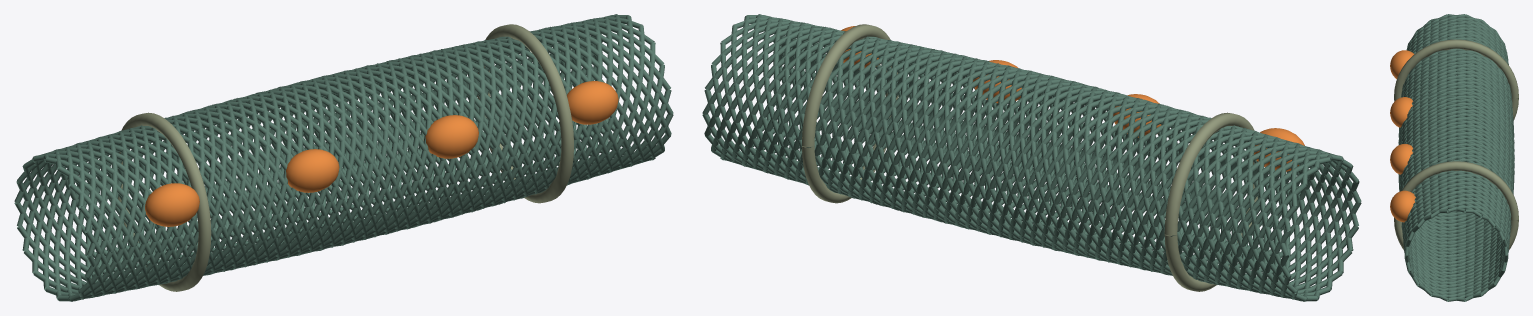
Rendered from trawl_net_bundle.glb.
3 renders of one model, left to right at view 1: azimuth 30°, elevation 25°; view 2: azimuth 150°, elevation 25°; view 3: azimuth 270°, elevation 25°, orthographic. The views are drawn at different scales.
Parts seen in each view (by area): view 1: trawl_net_bundle Fixed_NetTwine, trawl_net_bundle Fixed_FloatOrange, trawl_net_bundle Fixed_Boltrope; view 2: trawl_net_bundle Fixed_NetTwine, trawl_net_bundle Fixed_Boltrope, trawl_net_bundle Fixed_FloatOrange; view 3: trawl_net_bundle Fixed_NetTwine, trawl_net_bundle Fixed_Boltrope, trawl_net_bundle Fixed_FloatOrange.
Part boxes in pixels (x1,y1,x2,y2): trawl_net_bundle Fixed_NetTwine: [14, 14, 673, 301]; trawl_net_bundle Fixed_FloatOrange: [145, 81, 618, 226]; trawl_net_bundle Fixed_Boltrope: [118, 24, 573, 291]; trawl_net_bundle Fixed_NetTwine: [702, 14, 1361, 301]; trawl_net_bundle Fixed_Boltrope: [802, 24, 1257, 291]; trawl_net_bundle Fixed_FloatOrange: [841, 26, 1304, 171]; trawl_net_bundle Fixed_NetTwine: [1398, 14, 1514, 301]; trawl_net_bundle Fixed_Boltrope: [1394, 39, 1518, 249]; trawl_net_bundle Fixed_FloatOrange: [1390, 50, 1415, 222].
Bounding box in the file's own units: 2.52 × 0.6768 × 0.6983.
